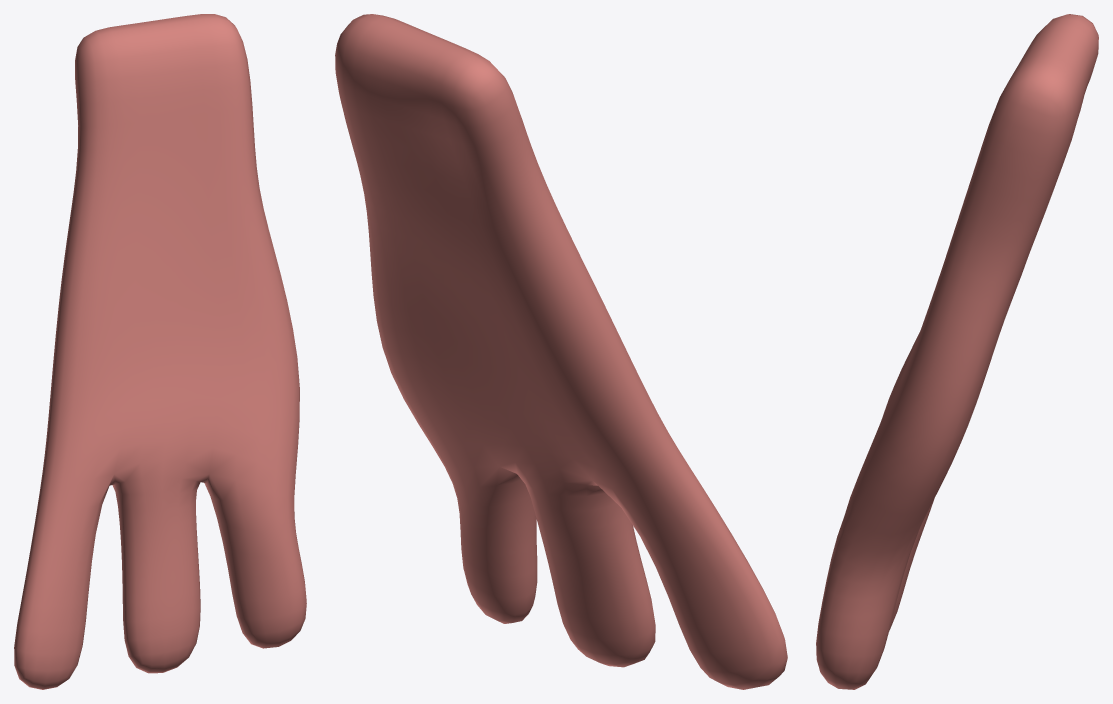
The picture shows the model from 3 angles, left to right: view 1: azimuth 30°, elevation 25°; view 2: azimuth 150°, elevation 25°; view 3: azimuth 270°, elevation 25°; orthographic projection. The views are drawn at different scales.
Parts seen in each view (by area): view 1: ZA_cb1020ae92265108; view 2: ZA_cb1020ae92265108; view 3: ZA_cb1020ae92265108.
Part boxes in pixels (left/top/right/bottom): ZA_cb1020ae92265108: left=14, top=14, right=306, bottom=689; ZA_cb1020ae92265108: left=335, top=14, right=787, bottom=689; ZA_cb1020ae92265108: left=816, top=14, right=1098, bottom=689.
Bounding box in the file's own units: 0.0273 × 0.0485 × 0.0193.
